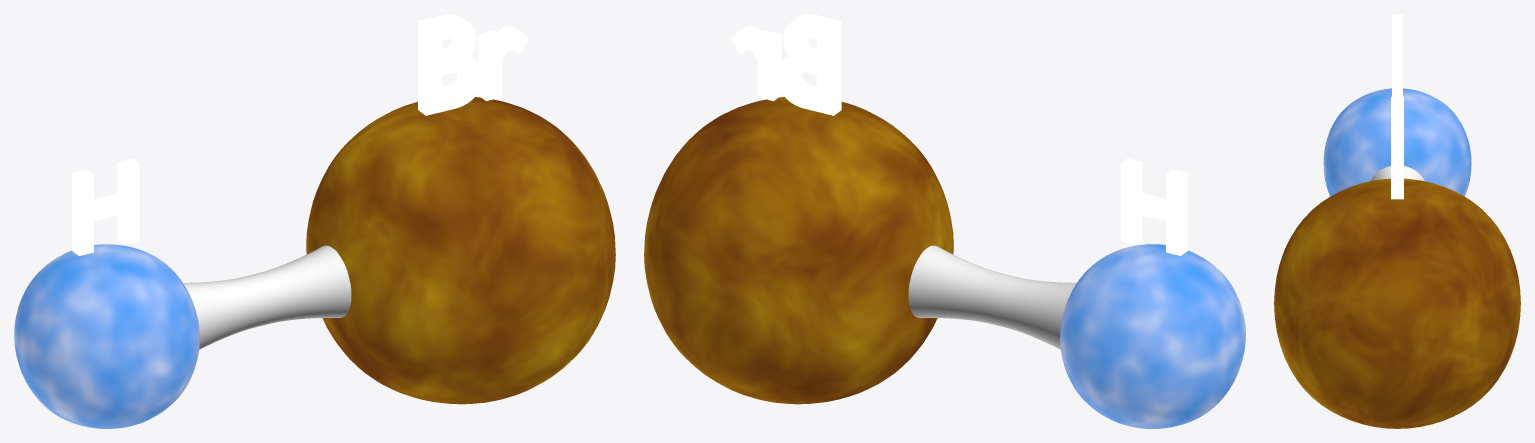
Rendered from HBr.glb.
The picture shows the model from 3 angles, left to right: view 1: azimuth 30°, elevation 25°; view 2: azimuth 150°, elevation 25°; view 3: azimuth 270°, elevation 25°; orthographic projection. The views are drawn at different scales.
Visible parts, largest first — view 1: Text.002; view 2: Text.002; view 3: Text.002.
Part boxes in pixels (left/top/right/bottom): Text.002: left=14, top=14, right=615, bottom=428; Text.002: left=644, top=14, right=1245, bottom=428; Text.002: left=1274, top=14, right=1520, bottom=428.
Bounding box in the file's own units: 5.2 × 3.29 × 2.42.
4 materials, 2 textured.
